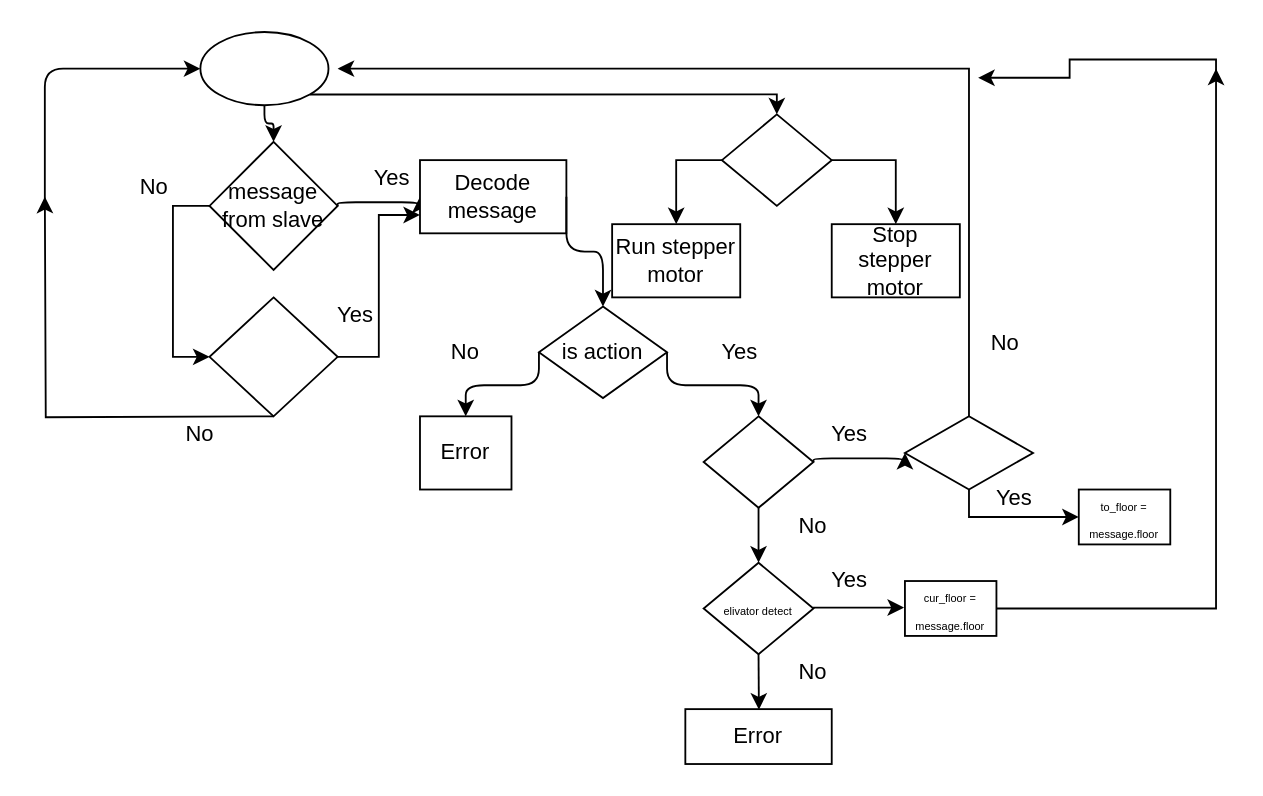
Image size: 1263x796. Some labels were removed from this diagram. Here are the shapes that lost their labels. From the top down, the centre of each, then its label:
At pixel 263 67: "start".
At pixel 776 159: "cur_floor != to_floor".
At pixel 273 356: "num pad input".
At pixel 757 461: "elivator request".
At pixel 968 452: "cur_floor != message.floor".
